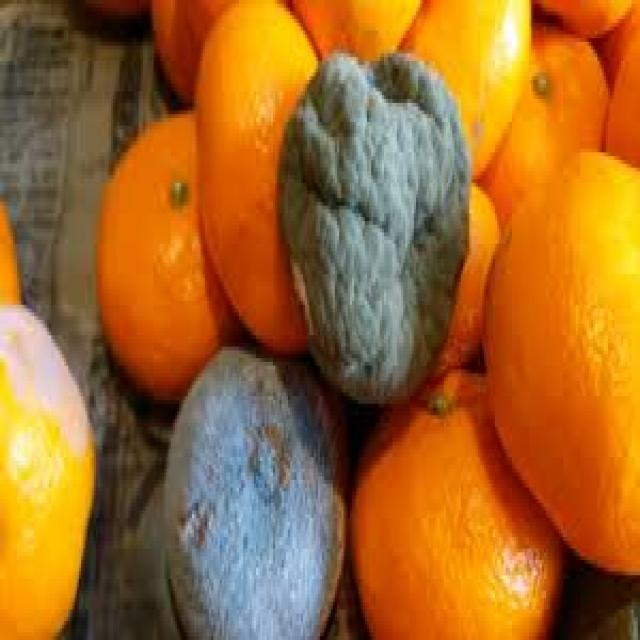organic waste: (278, 42, 470, 404), (482, 149, 638, 579), (348, 366, 567, 636), (164, 339, 348, 636), (194, 0, 320, 354), (98, 103, 237, 400), (0, 297, 94, 636), (472, 19, 610, 225), (395, 0, 531, 175), (150, 0, 292, 107), (290, 0, 425, 69), (599, 11, 638, 168), (531, 0, 631, 34), (0, 198, 21, 301)
